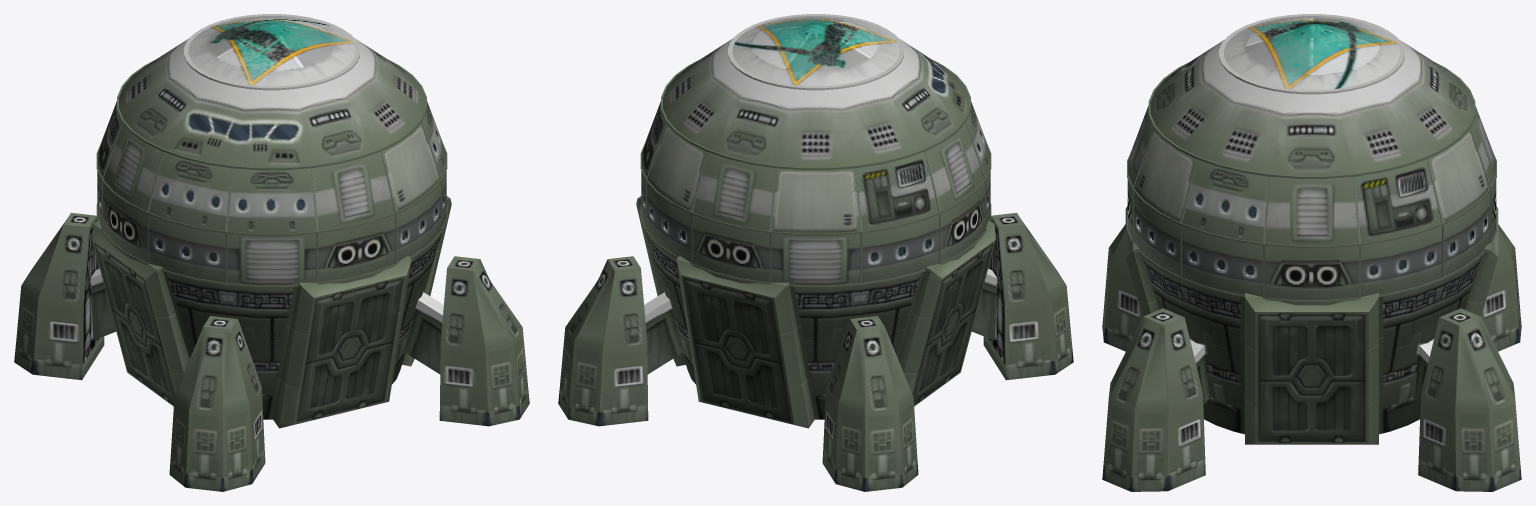
The model's file is dropshipliao_cad.glb.
3 renders of one model, left to right at view 1: azimuth 30°, elevation 25°; view 2: azimuth 150°, elevation 25°; view 3: azimuth 270°, elevation 25°, orthographic. The views are drawn at different scales.
Visible parts, largest first — view 1: Dropship; view 2: Dropship; view 3: Dropship.
Boxes of the visible parts, <box> form: Dropship: <box>14,14,529,491</box>; Dropship: <box>558,14,1073,491</box>; Dropship: <box>1102,14,1521,491</box>.
Bounding box in the file's own units: 34.85 × 34.65 × 34.85.
1 material, 1 textured.
